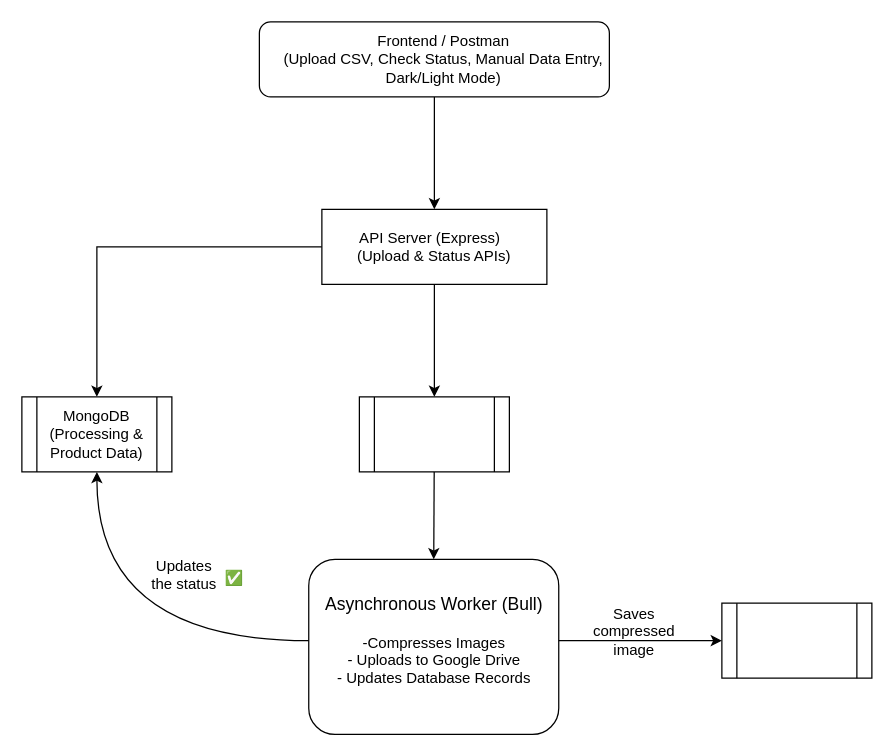
The diagram is 894 pixels wide and 756 high, and some of its shapes have lost their labels. Here are the shapes that lost their labels. From the top down, the box of each, then its label:
(358, 396, 509, 472): Redis (Bull) Queue Storage
(721, 602, 872, 678): Google Drive API (File Upload)
